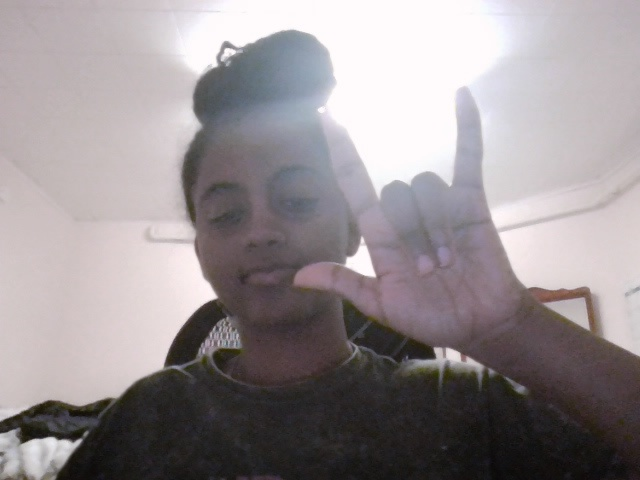ILoveYou: (290, 84, 562, 355)
